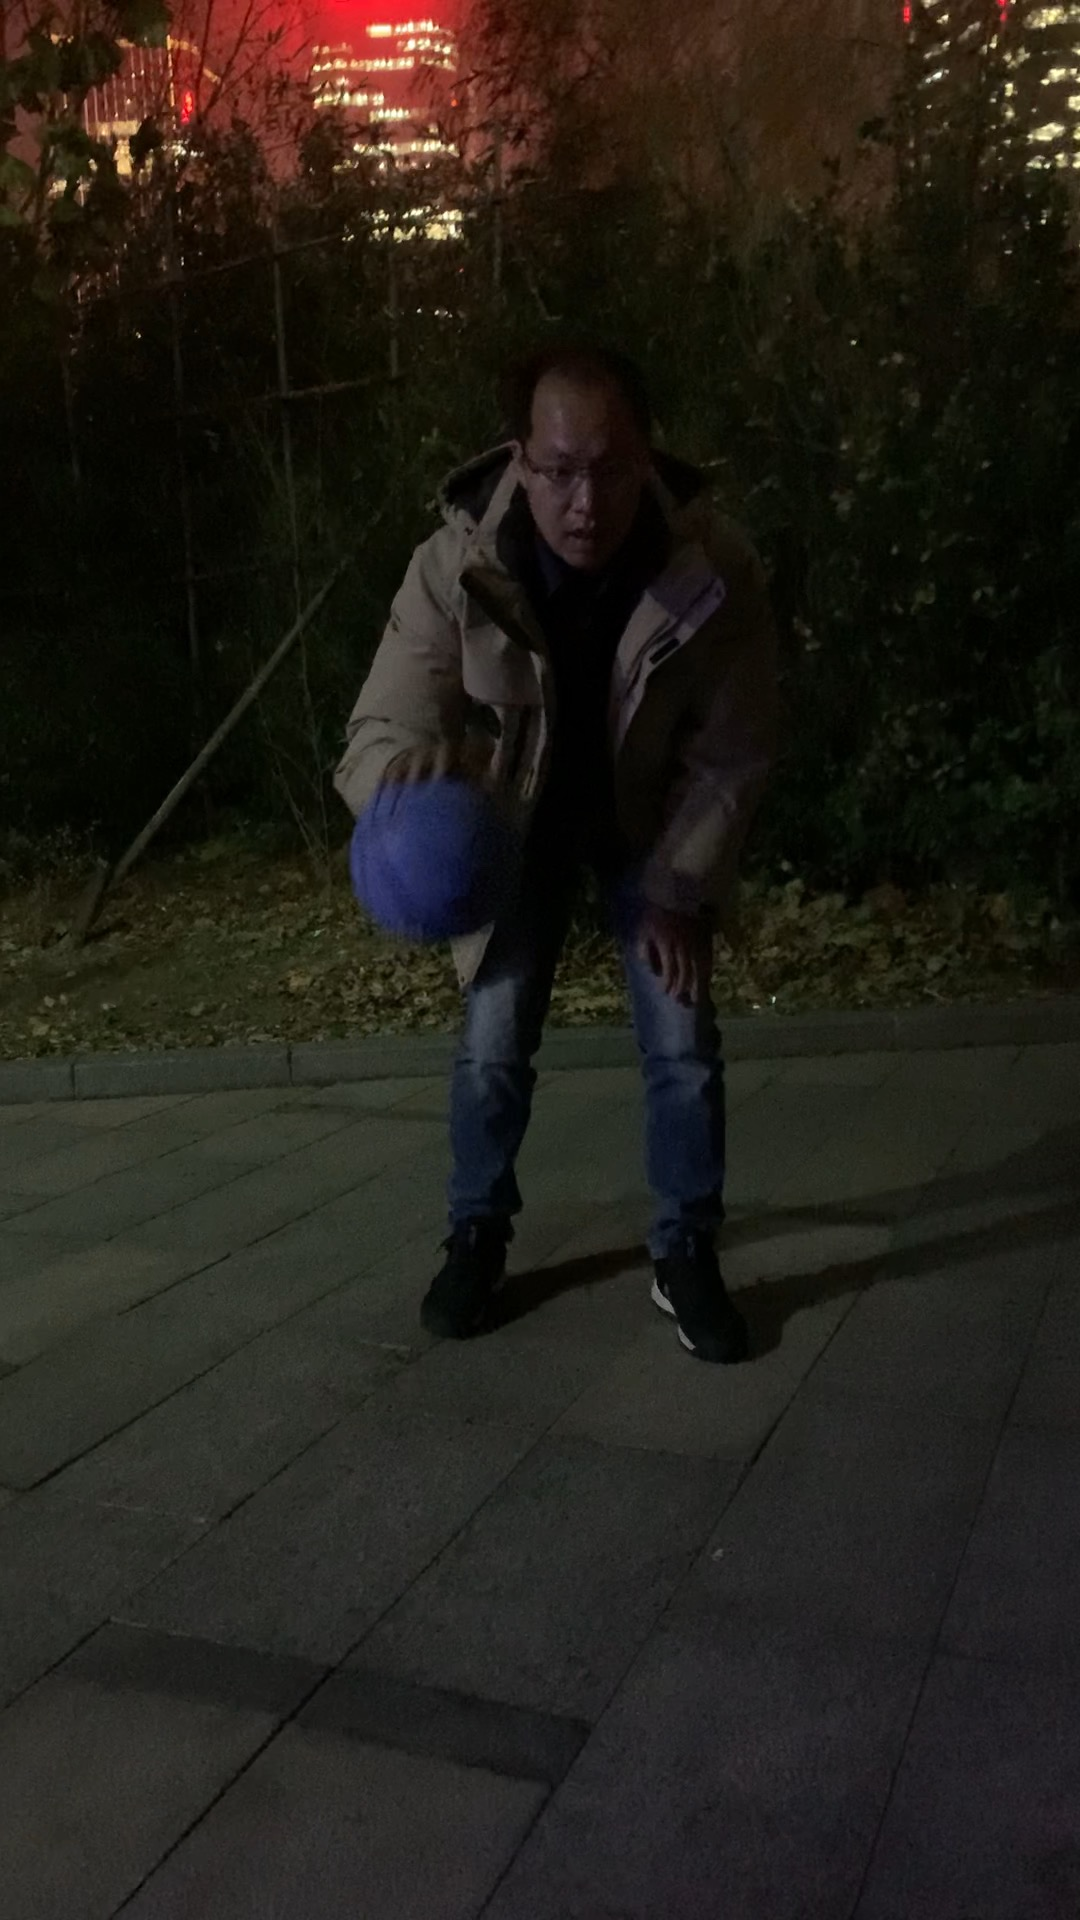ball: (356, 786, 516, 939)
